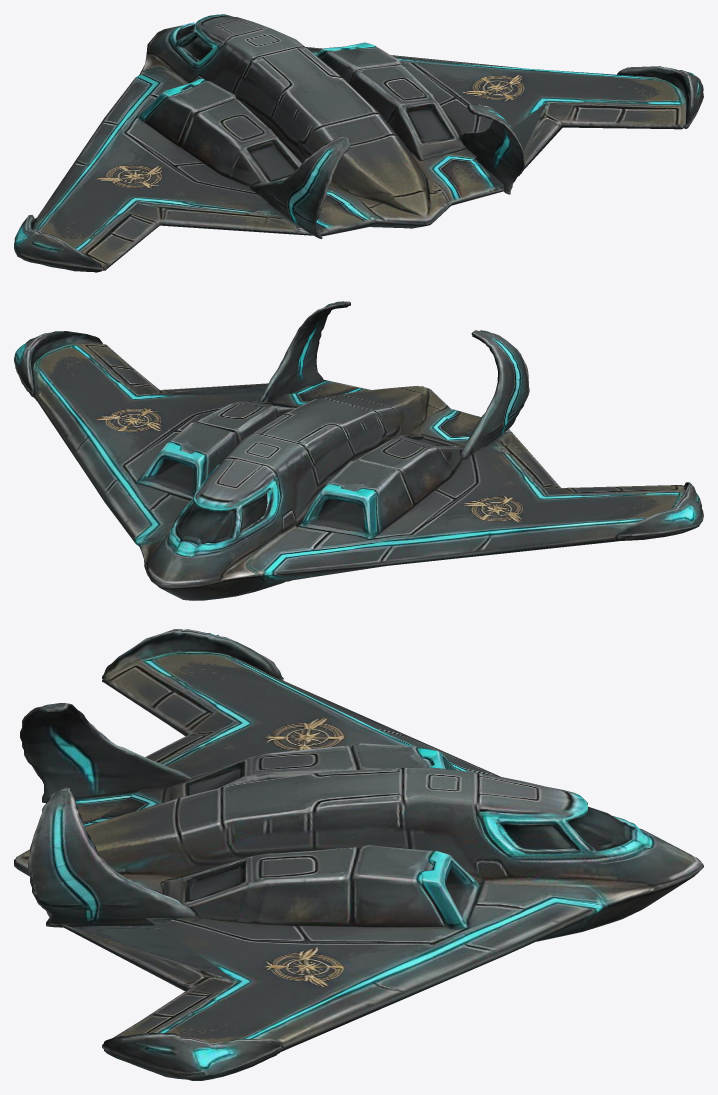
Rendered from siege_tube.glb.
3 renders of one model, top to bottom at view 1: azimuth 30°, elevation 25°; view 2: azimuth 150°, elevation 25°; view 3: azimuth 270°, elevation 25°, orthographic. The views are drawn at different scales.
Parts seen in each view (by area): view 1: Body, Trim; view 2: Body, Trim; view 3: Body, Trim.
Boxes of the visible parts, left/top/right/bottom form: Body: left=14, top=15, right=703, bottom=272; Trim: left=15, top=14, right=699, bottom=252; Body: left=14, top=301, right=703, bottom=600; Trim: left=14, top=330, right=699, bottom=580; Body: left=14, top=629, right=703, bottom=1080; Trim: left=51, top=633, right=659, bottom=1069.
Bounding box in the file's own units: 7.5 × 1.31 × 5.06.
Materials: 2 (2 with a texture image).
